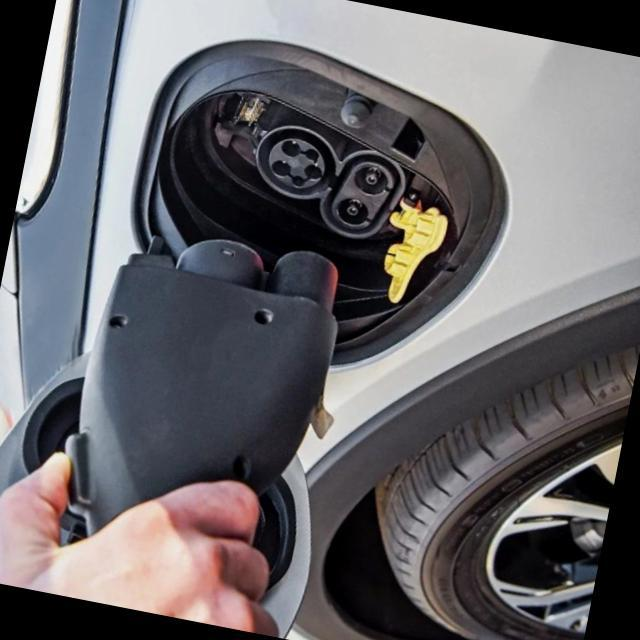CCS1: (238, 107, 422, 249)
